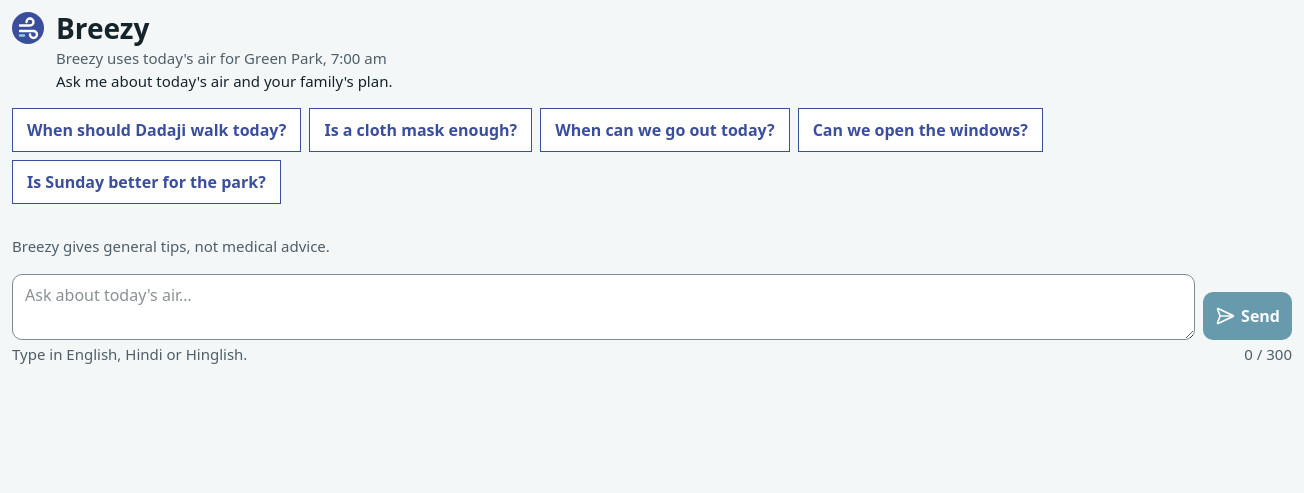
Scenario: Breezy cards and errors › says when BreatheWell can't be reached
Type "Hi" into the text box named "Your question for Breezy" at (604, 307), box [12,274,1195,340]
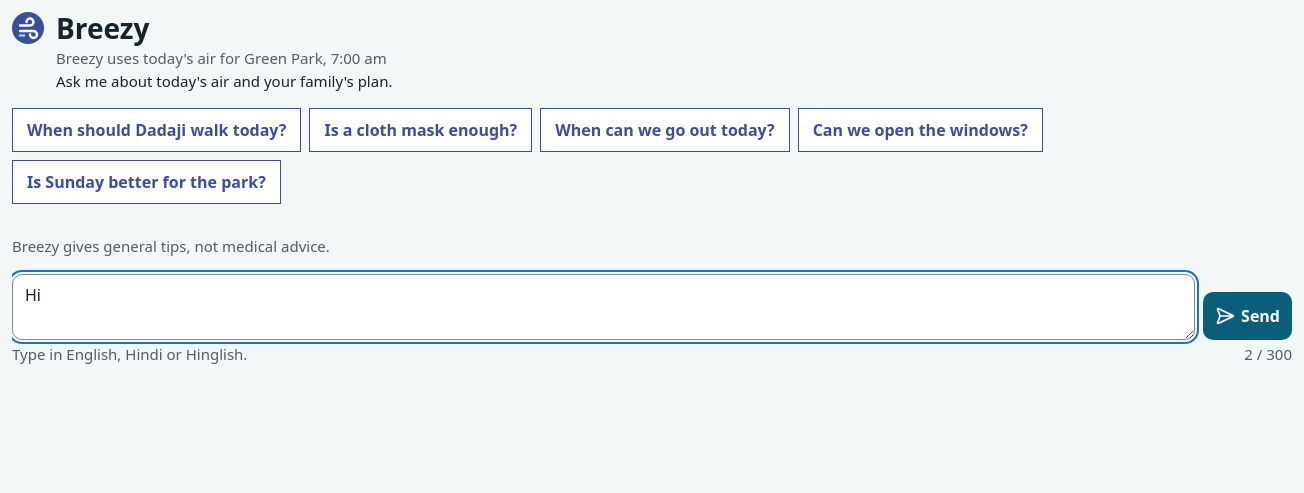
Click the button "Send" at (1248, 316), box [1203,292,1292,340]
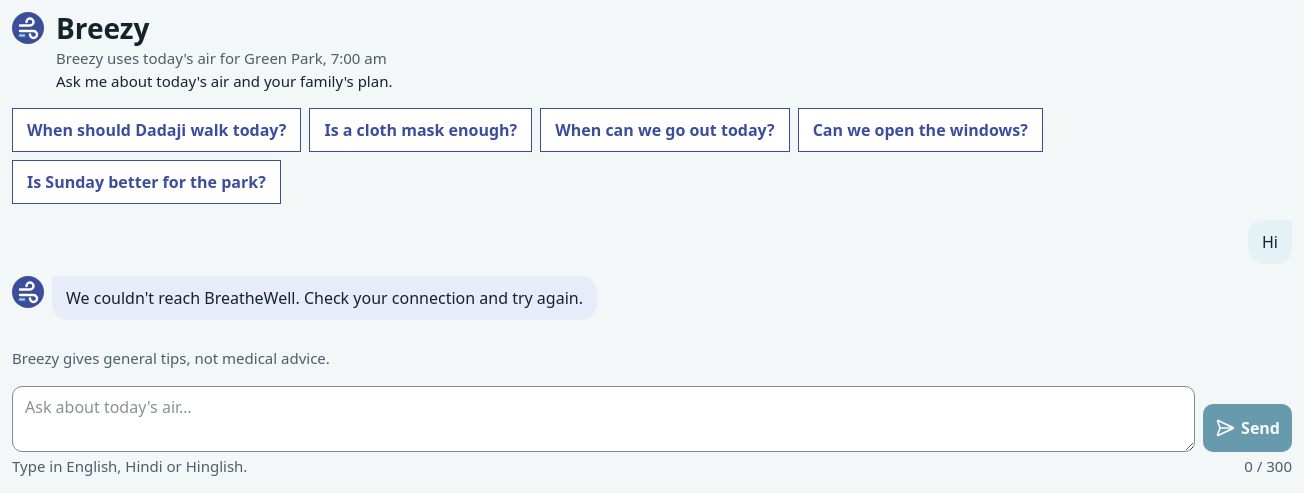
Expected: the text "We couldn't reach BreatheWell. Check your connection and try again." is shown, [66,286,583,310]
